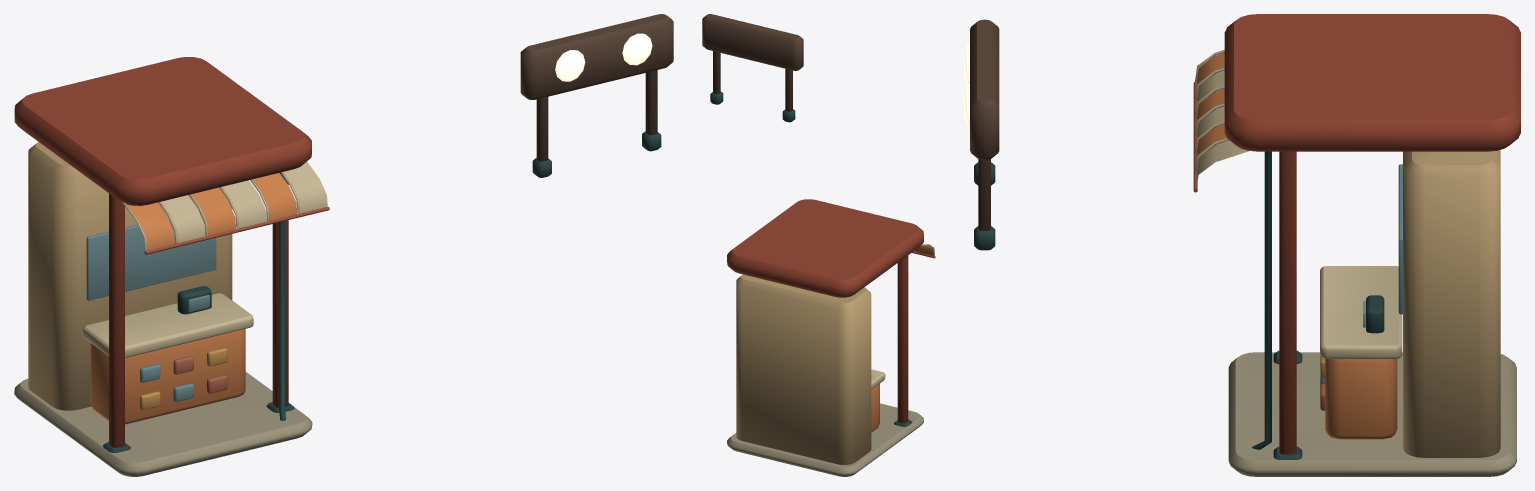
File: valley_restaurant_4.glb
3 renders of one model, left to right at view 1: azimuth 30°, elevation 25°; view 2: azimuth 150°, elevation 25°; view 3: azimuth 270°, elevation 25°, orthographic. The views are drawn at different scales.
Visible parts, largest first — view 1: Restaurant4; view 2: Restaurant4; view 3: Restaurant4.
Boxes of the visible parts, <box> form: Restaurant4: <box>14,14,673,476</box>; Restaurant4: <box>702,14,935,476</box>; Restaurant4: <box>964,14,1520,476</box>.
Size of the model in its own units: 5.28 by 4.95 by 4.79.
